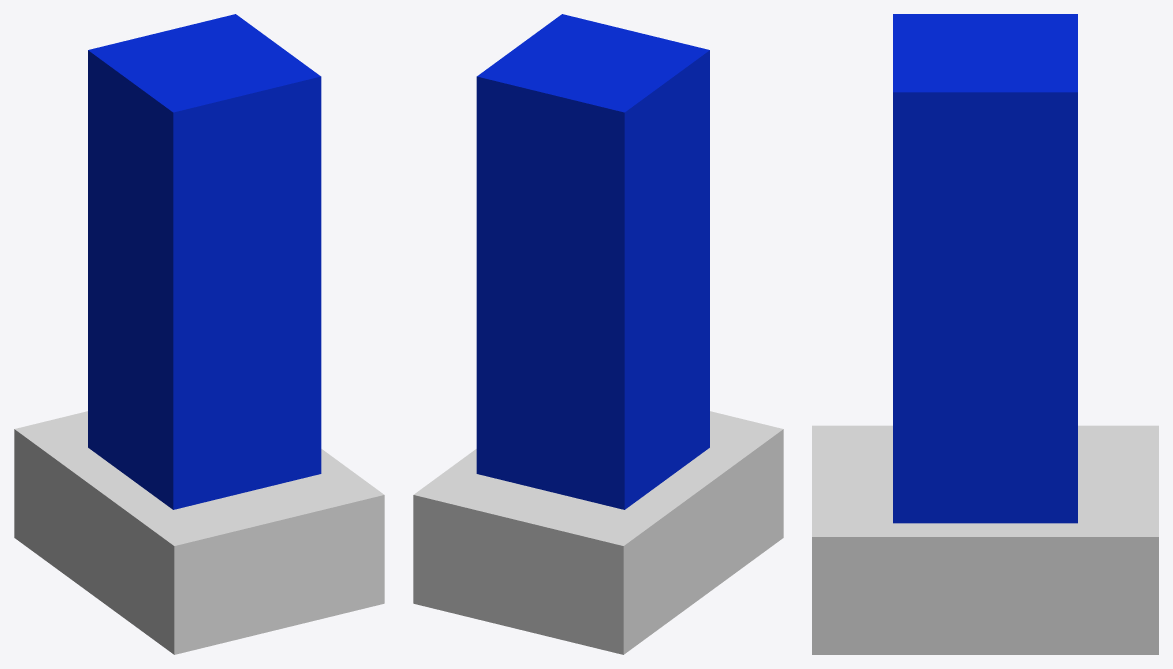
The picture shows the model from 3 angles, left to right: view 1: azimuth 30°, elevation 25°; view 2: azimuth 150°, elevation 25°; view 3: azimuth 270°, elevation 25°; orthographic projection. The views are drawn at different scales.
Visible parts, largest first — view 1: Cube.075; view 2: Cube.075; view 3: Cube.075.
Boxes of the visible parts, bbox=[...] form: Cube.075: bbox=[14, 14, 384, 654]; Cube.075: bbox=[413, 14, 783, 654]; Cube.075: bbox=[812, 14, 1158, 654].
Size of the model in its own units: 28.35 by 65.26 by 37.37.
